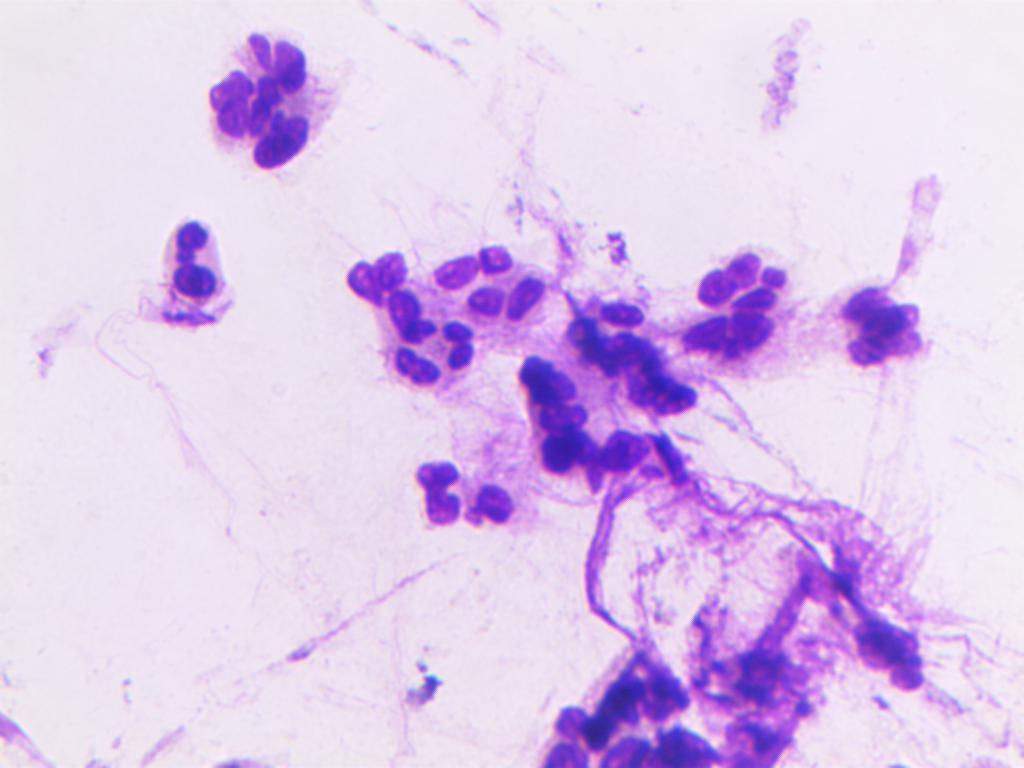artifact: (698, 618, 810, 768)
neutrophil: (519, 648, 730, 768), (515, 352, 690, 496), (197, 22, 336, 192), (561, 288, 701, 421), (827, 260, 954, 390), (429, 235, 561, 348), (129, 202, 244, 329), (329, 230, 446, 334), (835, 591, 940, 703), (400, 444, 527, 536), (379, 308, 482, 396), (689, 234, 792, 316), (683, 299, 794, 372)
